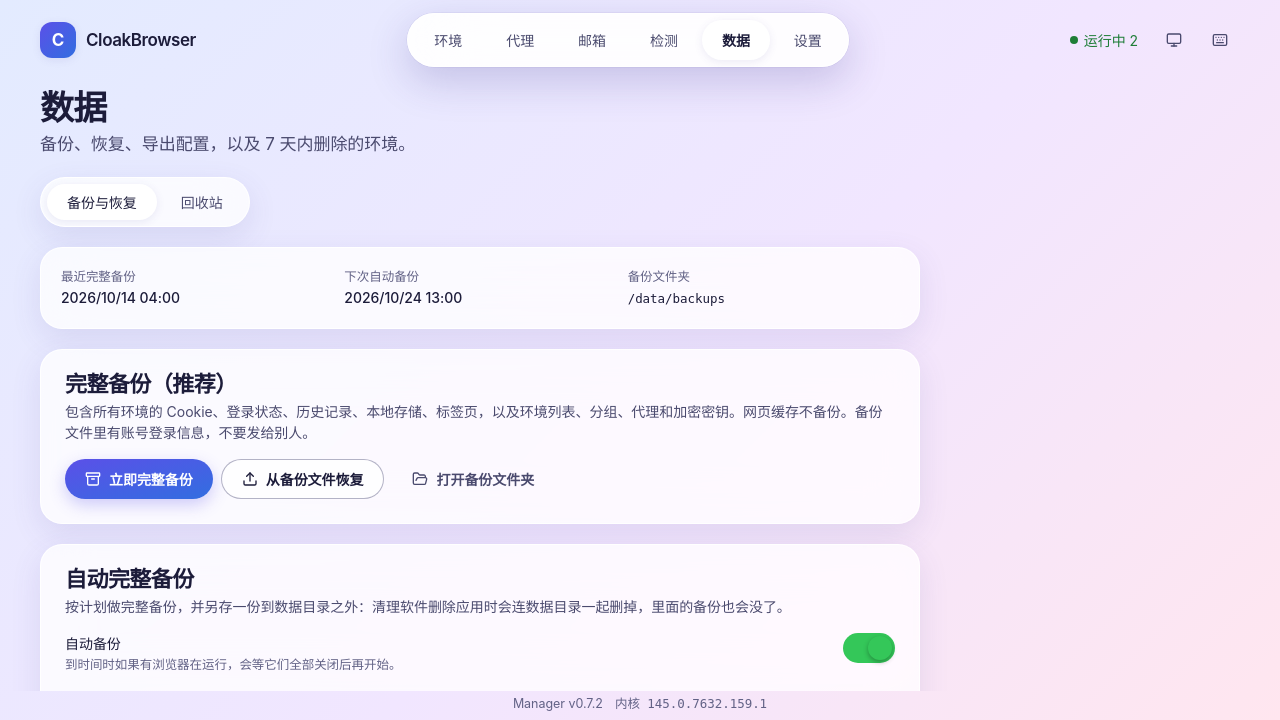
backups › explains a failed backup
Expected: the heading "数据" is shown, 40,87 -> 106,128
Click the button "立即完整备份" at (139, 479), box 65,459 -> 213,499
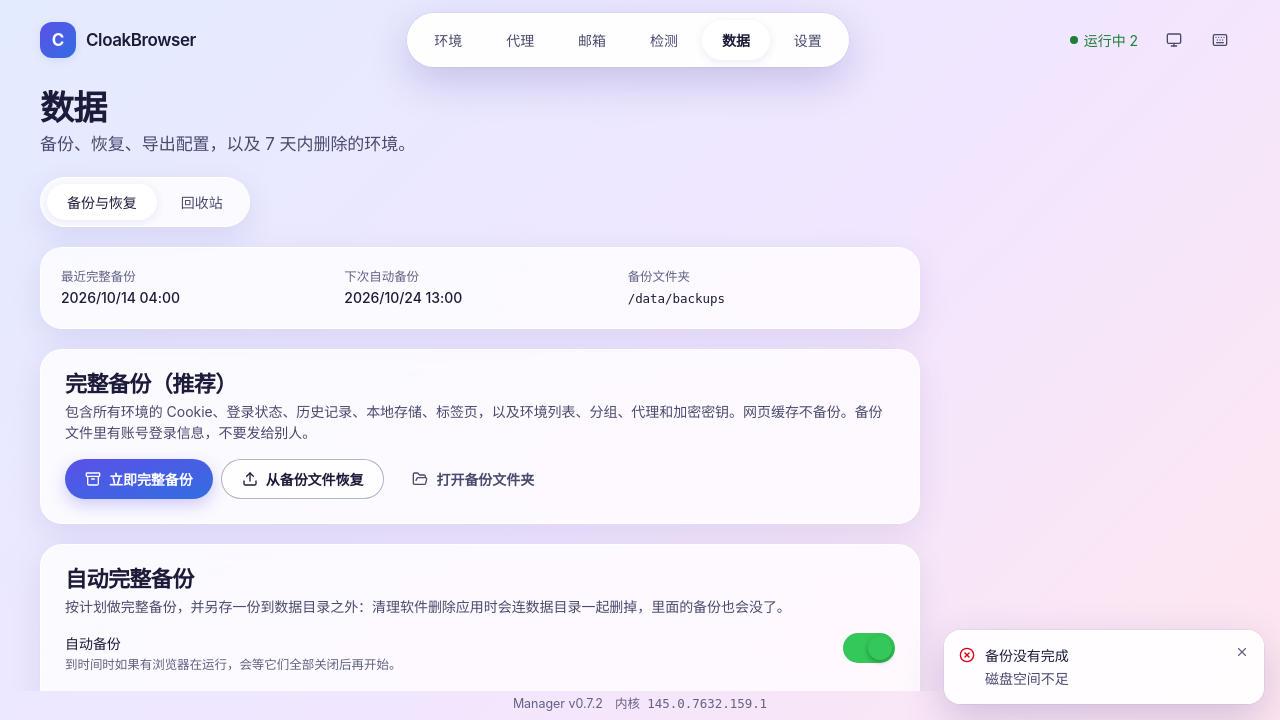
Result: the text "备份没有完成" is shown at 985,647 -> 1069,664
Result: the text "磁盘空间不足" is shown at 985,670 -> 1069,687
